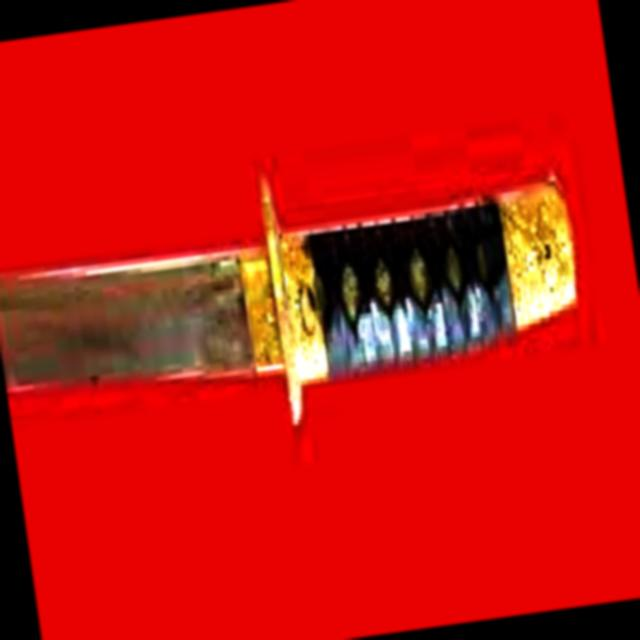long sword: (0, 132, 597, 474)
